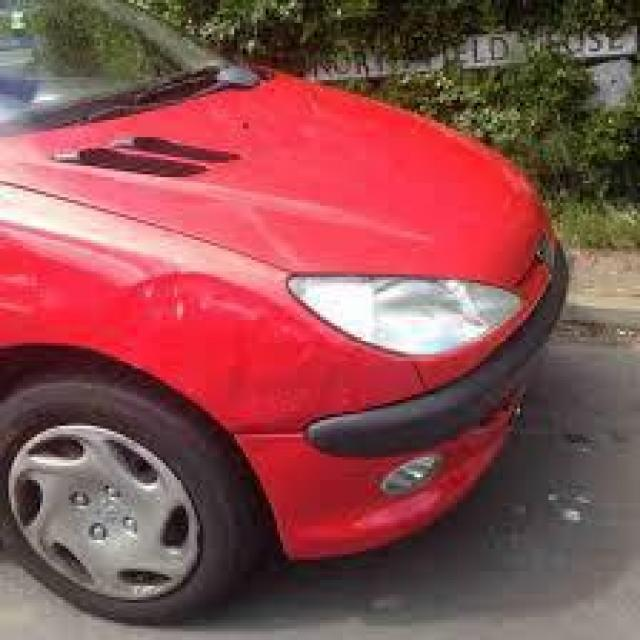damaged: (48, 134, 248, 183)
